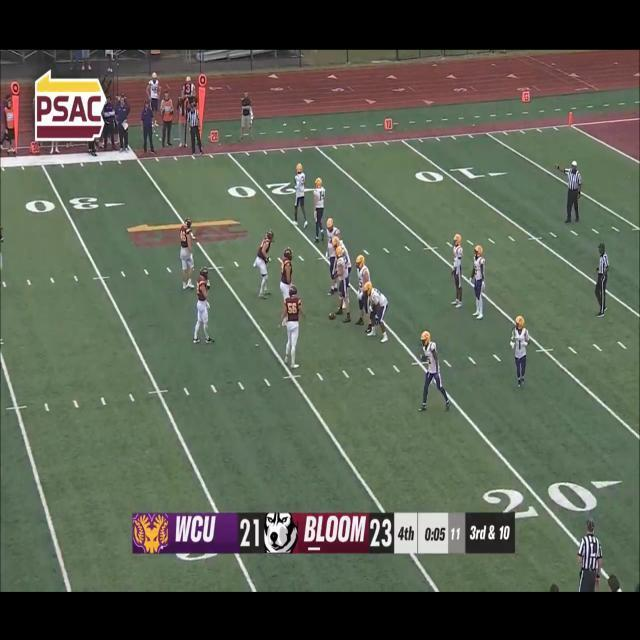football: (326, 308, 339, 324)
